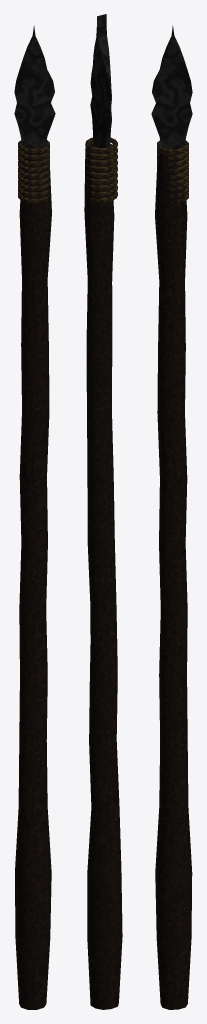
File: wood_spear.glb
3 renders of one model, left to right at view 1: azimuth 90°, elevation 25°; view 2: azimuth 210°, elevation 25°; view 3: azimuth 270°, elevation 25°, orthographic.
Parts seen in each view (by area): view 1: wood_spear; view 2: wood_spear; view 3: wood_spear.
Part boxes in pixels (x1,y1,x2,y2): wood_spear: (14, 25, 55, 1009); wood_spear: (84, 14, 122, 1009); wood_spear: (151, 25, 192, 1009).
Bounding box in the file's own units: 0.0439 × 1.27 × 0.0479.
3 materials, 3 textured.
